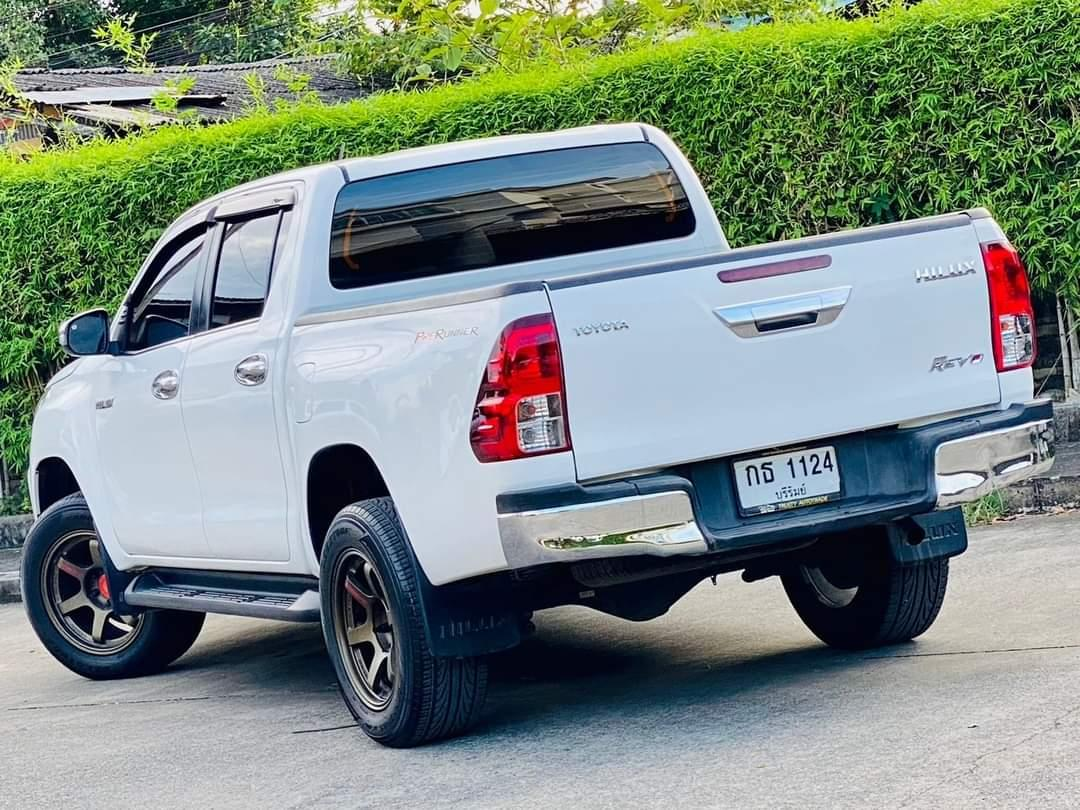license-plate: (727, 434, 849, 522)
